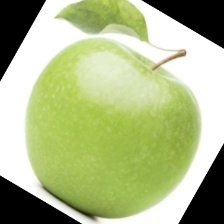apple: (7, 43, 202, 218)
